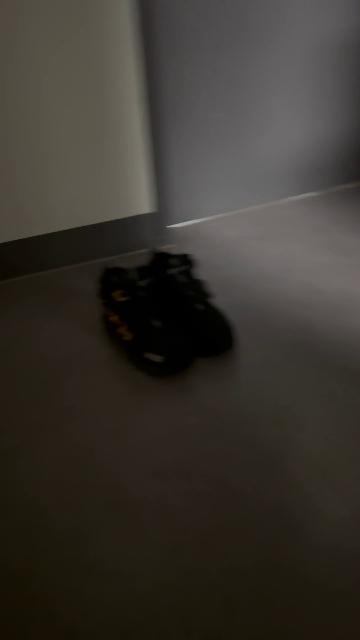shoe_worn: (98, 265, 192, 379), (140, 253, 238, 359)
